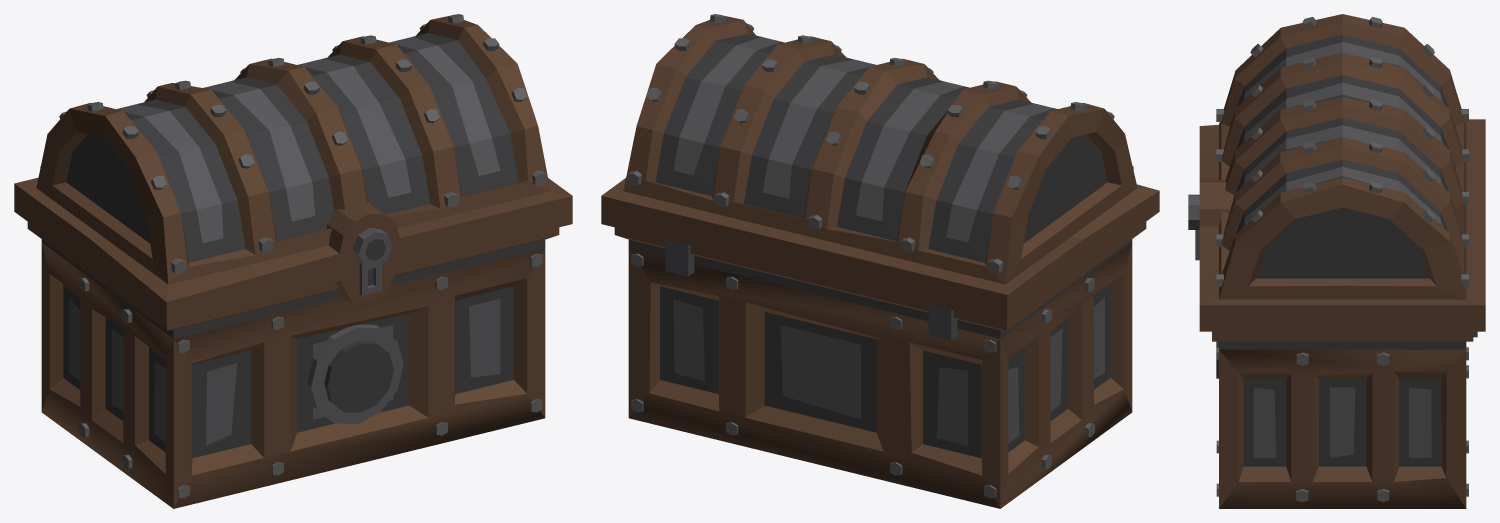
File: SM_Prop_Chest_Lid_01.glb
3 views of the same model, side by side, from view 1: azimuth 30°, elevation 25°; view 2: azimuth 150°, elevation 25°; view 3: azimuth 270°, elevation 25° (orthographic). The views are drawn at different scales.
Parts seen in each view (by area): view 1: SM_Prop_Chest_Lid_01; view 2: SM_Prop_Chest_Lid_01; view 3: SM_Prop_Chest_Lid_01.
Boxes of the visible parts, left/top/right/bottom form: SM_Prop_Chest_Lid_01: left=14, top=14, right=572, bottom=508; SM_Prop_Chest_Lid_01: left=601, top=14, right=1159, bottom=508; SM_Prop_Chest_Lid_01: left=1188, top=14, right=1485, bottom=508.
Size of the model in its own units: 0.0101 by 0.0082 by 0.00681.
